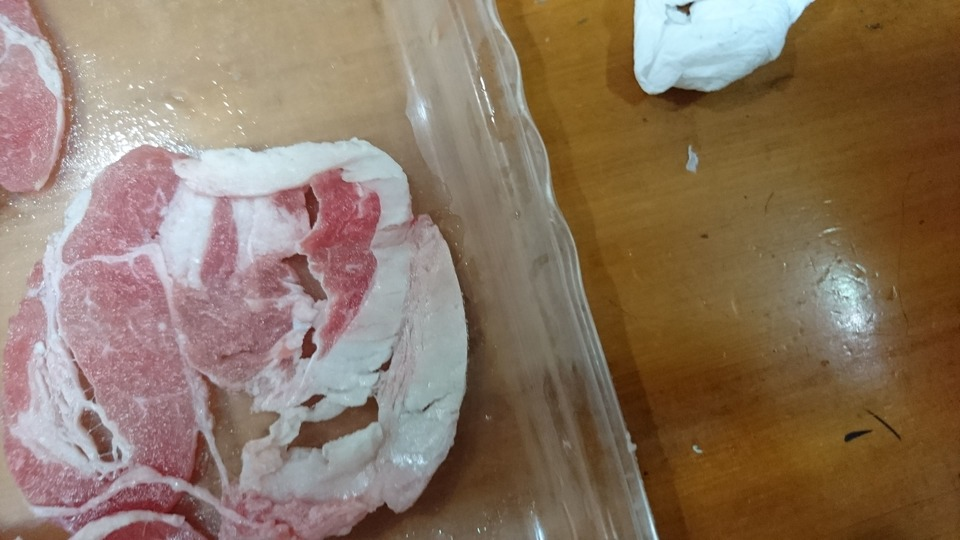restructured meat: (7, 138, 475, 538)
